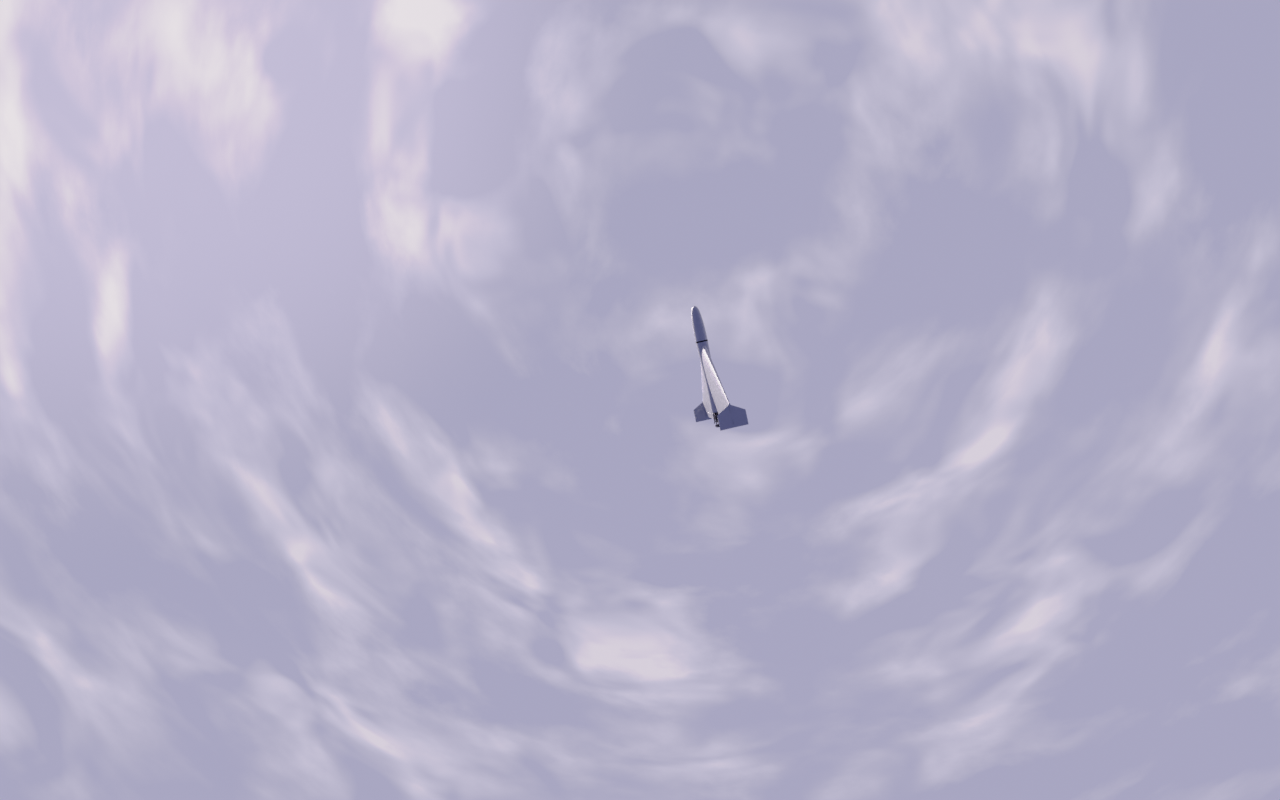shahed: (691, 306, 751, 433)
